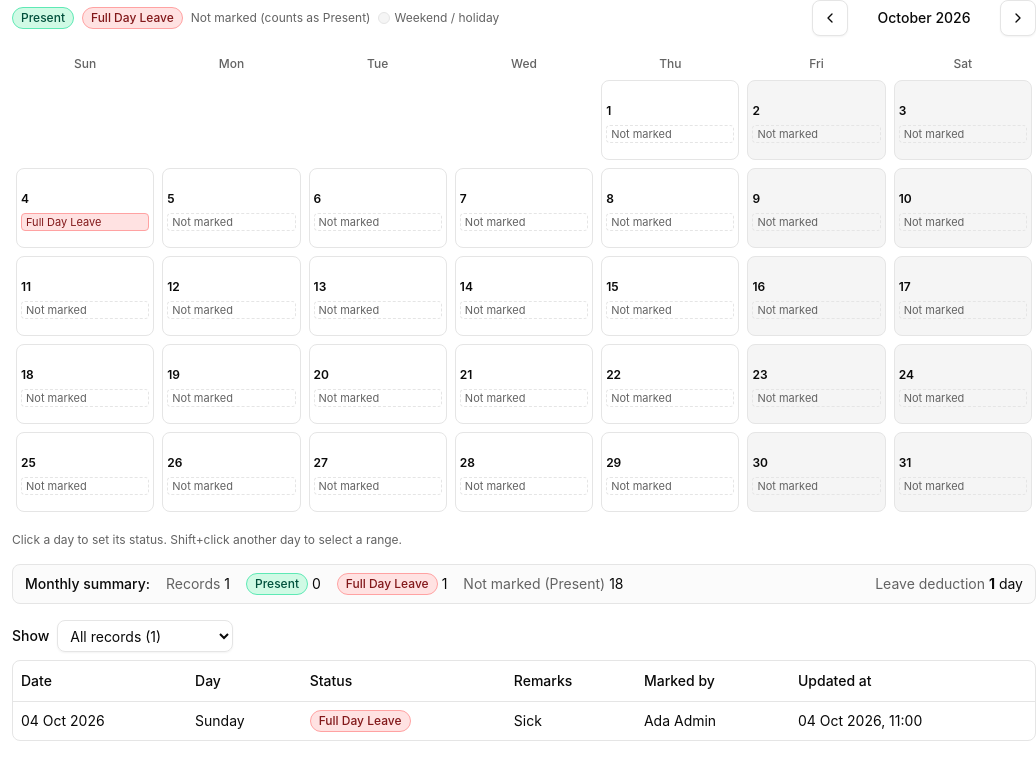
attendance server views › Employee tab shows calendar, summary and month records
Check: the button with test id "day-2026-10-04" shows "Full Day Leave", box [16, 168, 154, 248]
Check: the cell "Sick" is shown, box [506, 701, 636, 740]
Select "Present" in the dropdown labelled "Show" at point(145, 636), box [57, 620, 233, 652]
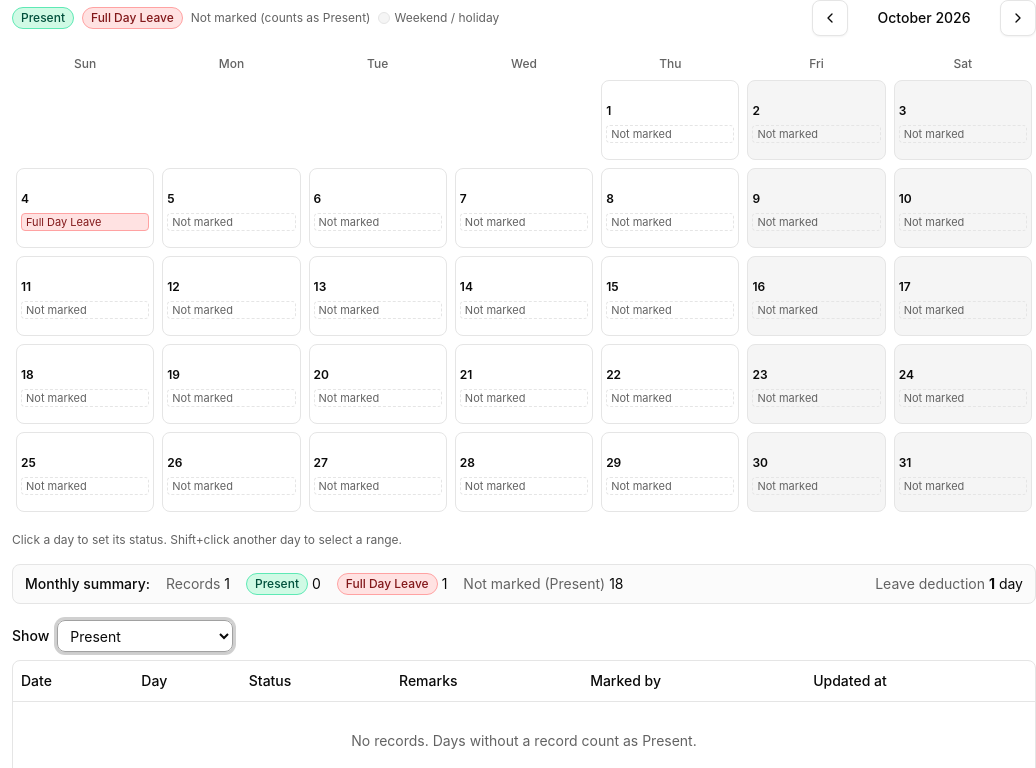
Check: the cell "Sick" is gone
Select "Leave only" in the dropdown labelled "Show" at point(145, 636), box [57, 620, 233, 652]
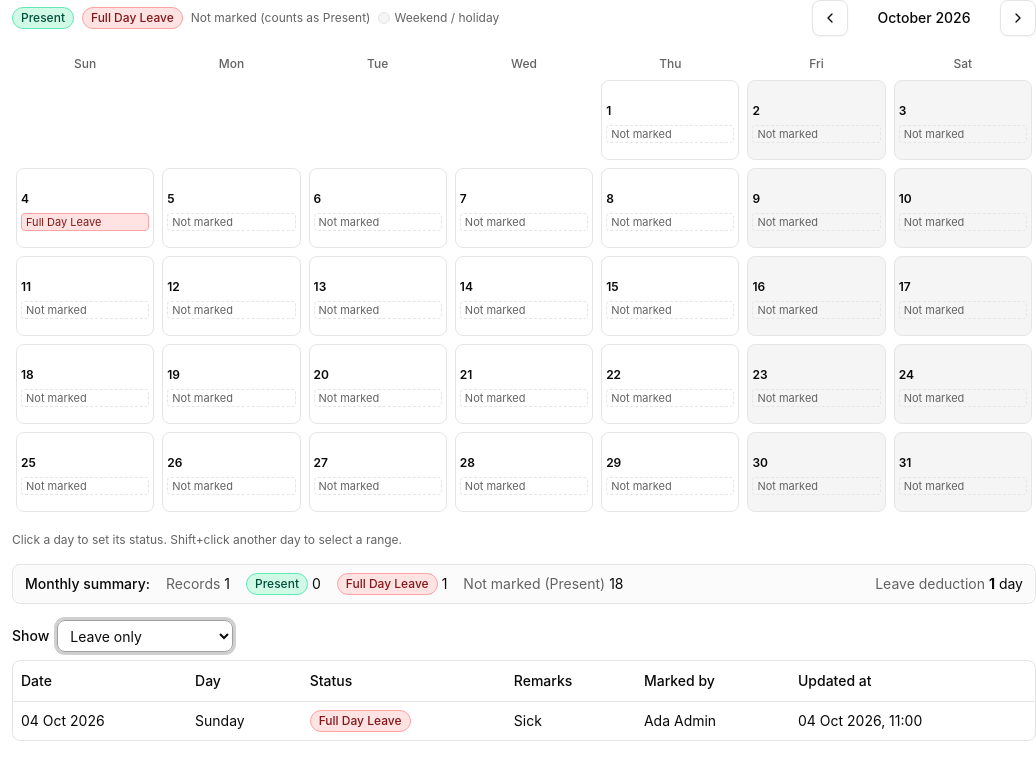
Check: the cell "Sick" is shown, box [506, 701, 636, 740]
